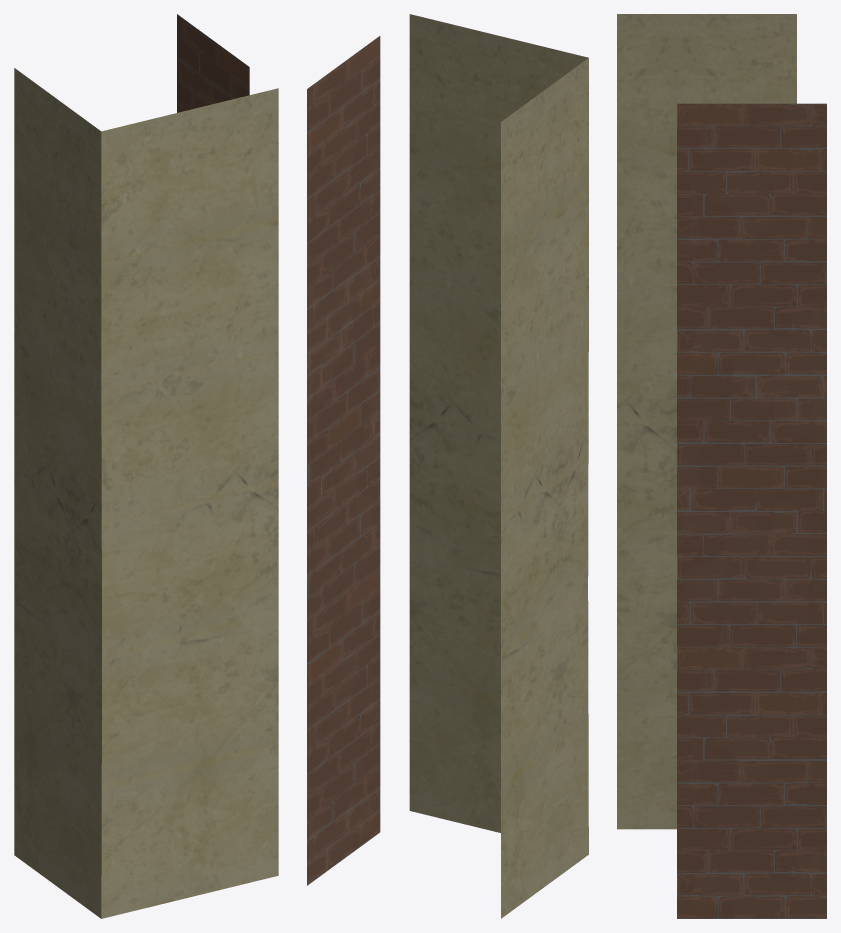
File: Marble_90Angle_R.gltf
3 renders of one model, left to right at view 1: azimuth 30°, elevation 25°; view 2: azimuth 150°, elevation 25°; view 3: azimuth 270°, elevation 25°, orthographic. The views are drawn at different scales.
Parts seen in each view (by area): view 1: Marble_90Angle_R; view 2: Marble_90Angle_R; view 3: Marble_90Angle_R.
Boxes of the visible parts, x1,y1,x2,y2 form: Marble_90Angle_R: (14, 14, 278, 918); Marble_90Angle_R: (307, 14, 588, 918); Marble_90Angle_R: (617, 14, 826, 918).
Size of the model in its own units: 0.7062 by 3 by 0.7.
Materials: 2 (2 with a texture image).
